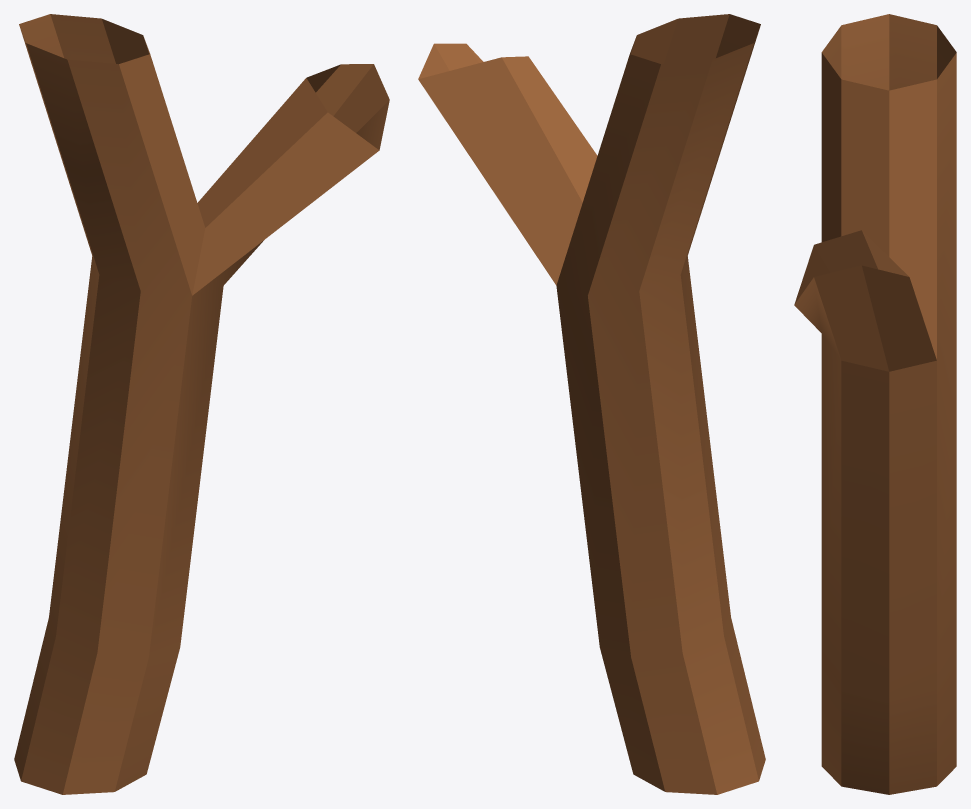
Rendered from tree_miki_C.fbx.
3 renders of one model, left to right at view 1: azimuth 30°, elevation 25°; view 2: azimuth 150°, elevation 25°; view 3: azimuth 270°, elevation 25°, orthographic.
Parts seen in each view (by area): view 1: tree_miki_C; view 2: tree_miki_C; view 3: tree_miki_C.
Boxes of the visible parts, box(x1,y1,x2,y2) form: tree_miki_C: box(14, 14, 389, 794); tree_miki_C: box(418, 14, 765, 794); tree_miki_C: box(794, 14, 956, 794).
Bounding box in the file's own units: 21.68 × 45.05 × 9.14.
